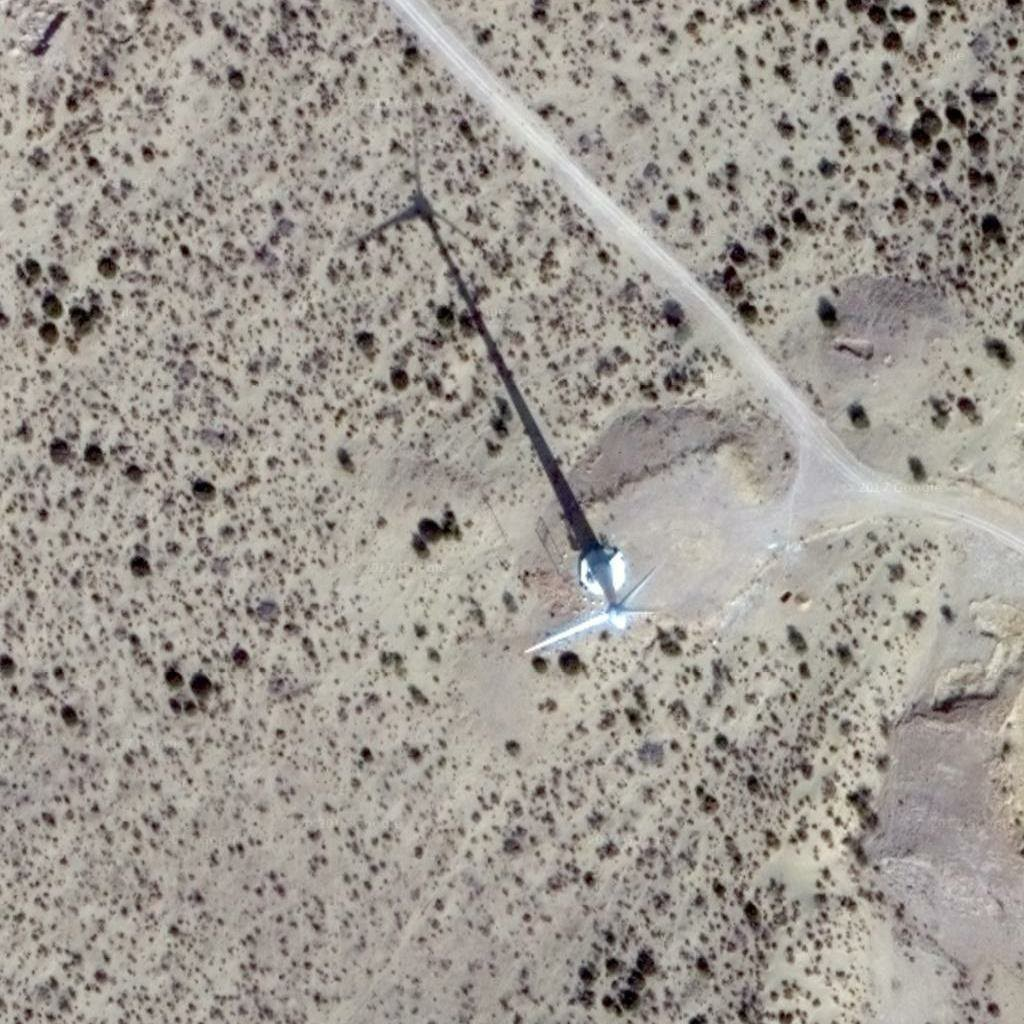Windmill: (344, 106, 645, 548)
